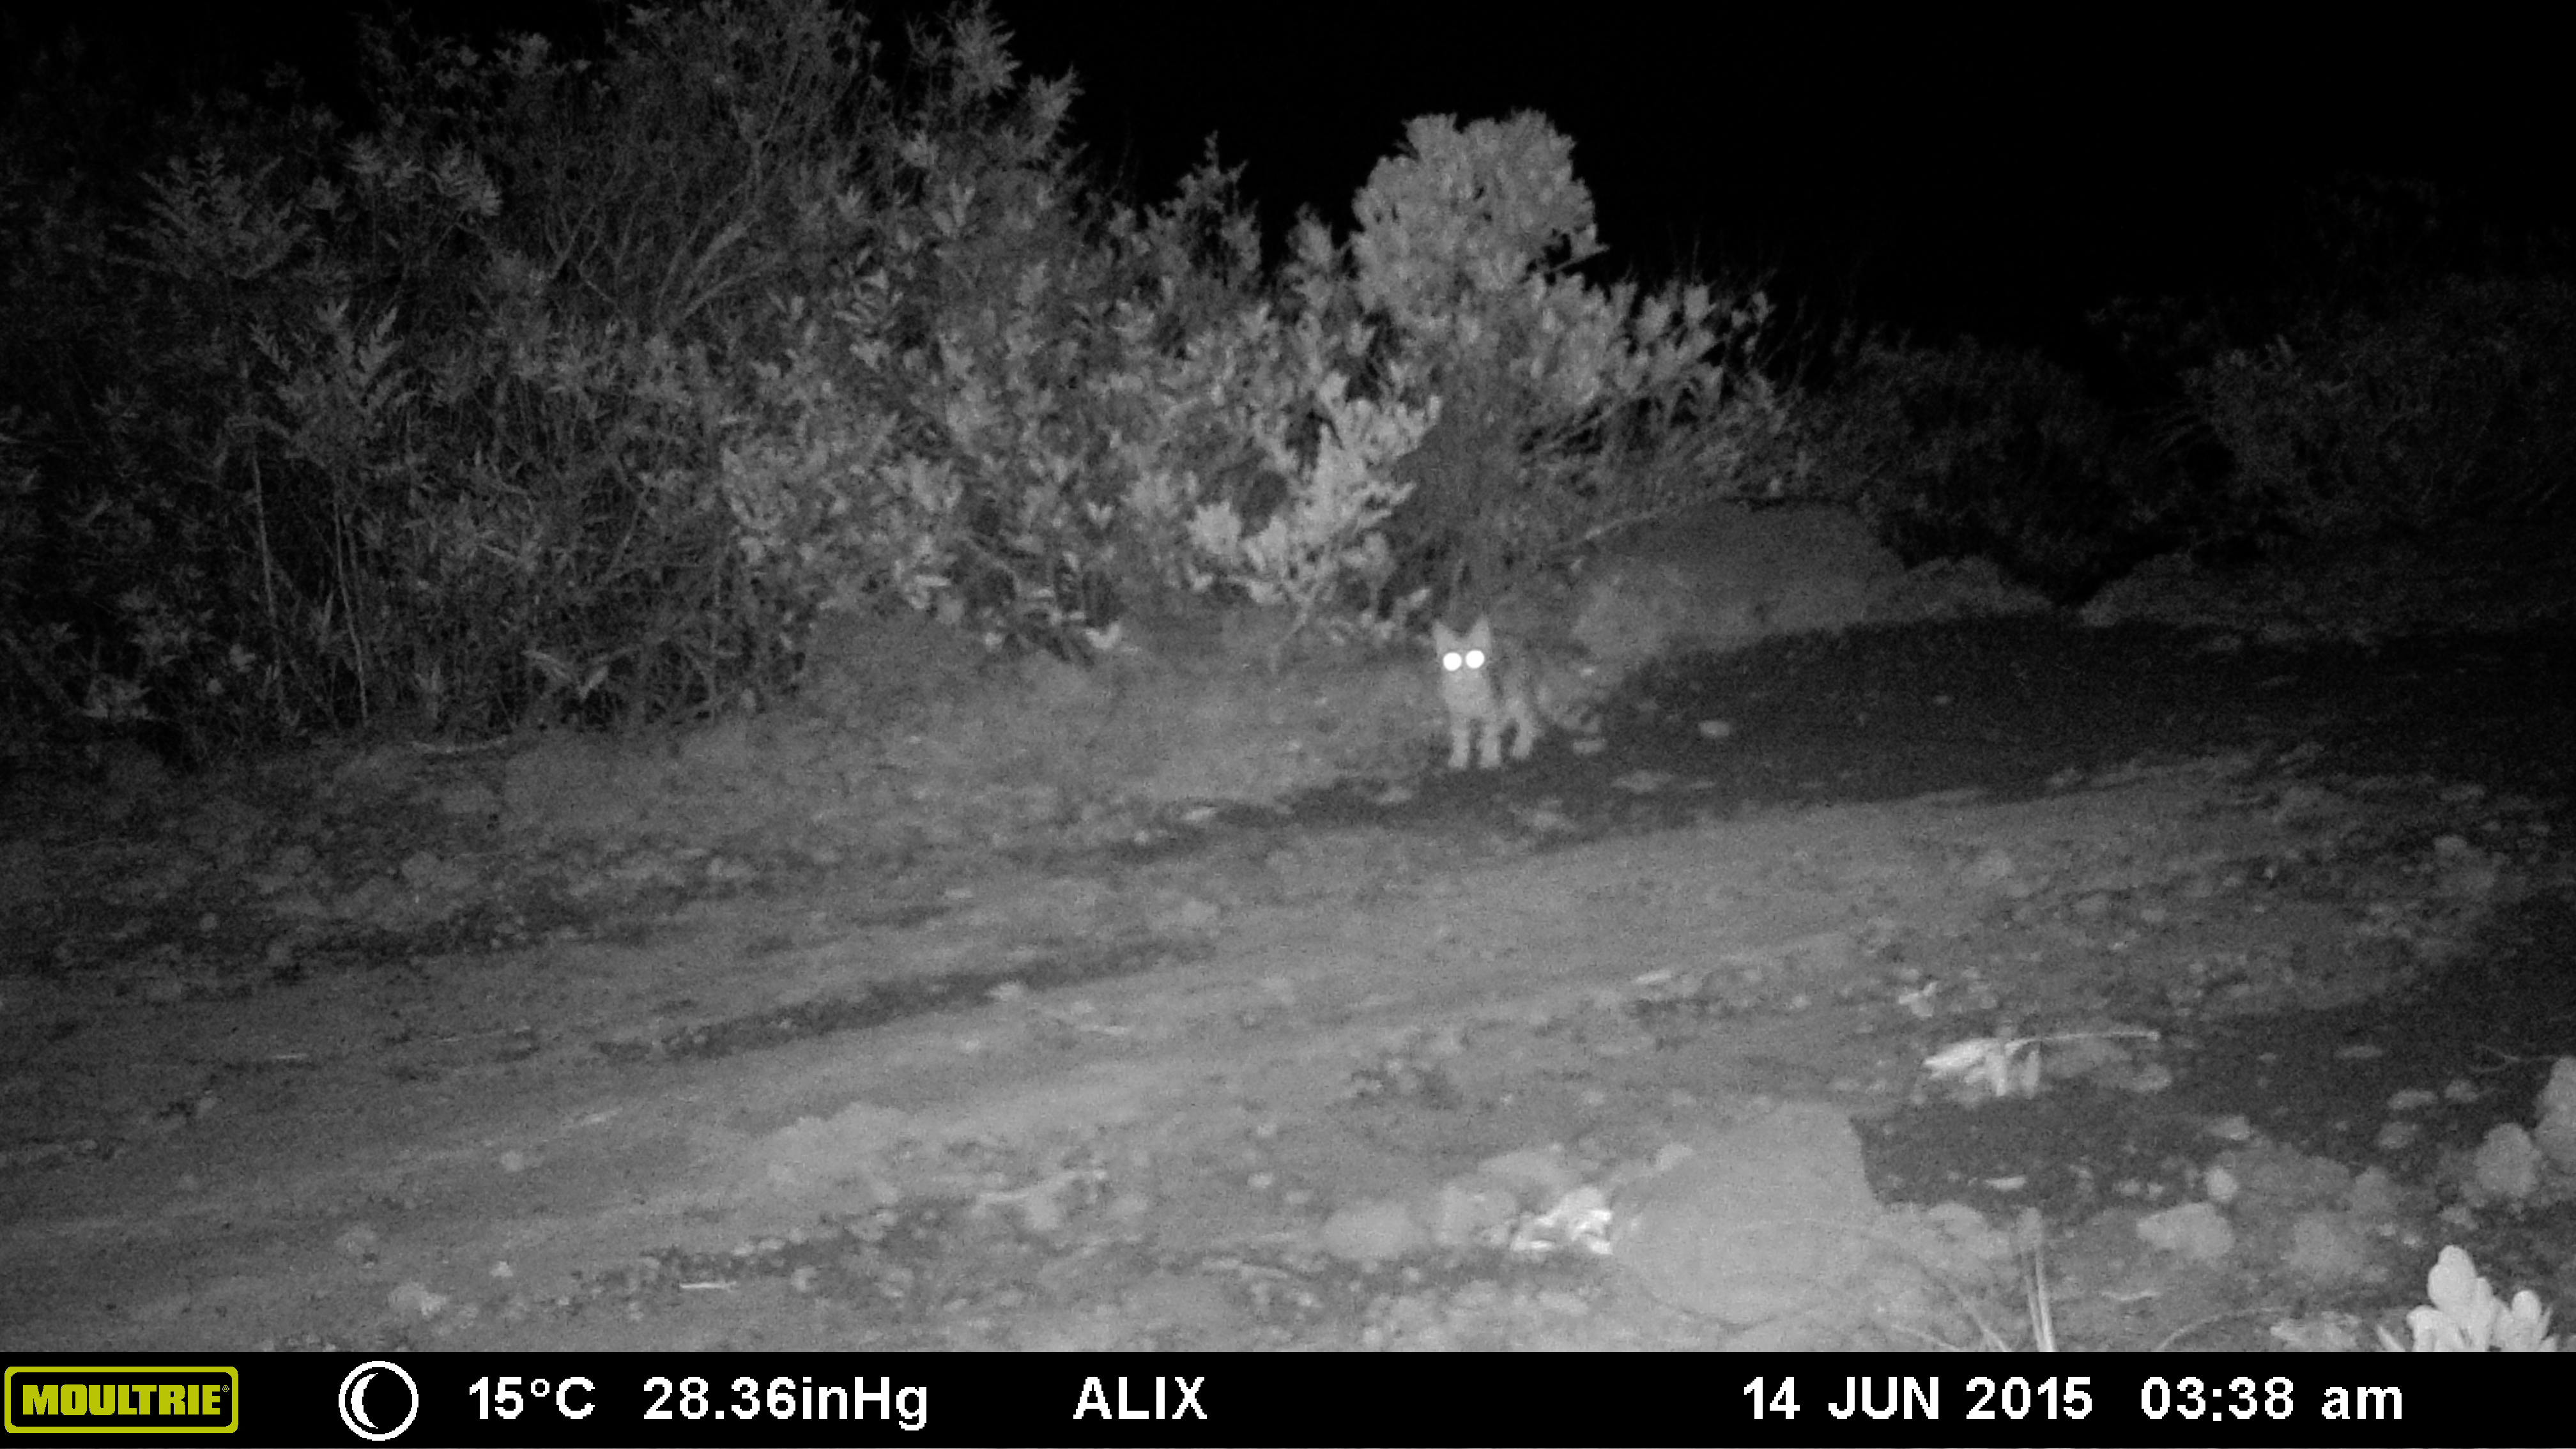cat: (1424, 609, 1626, 793)
